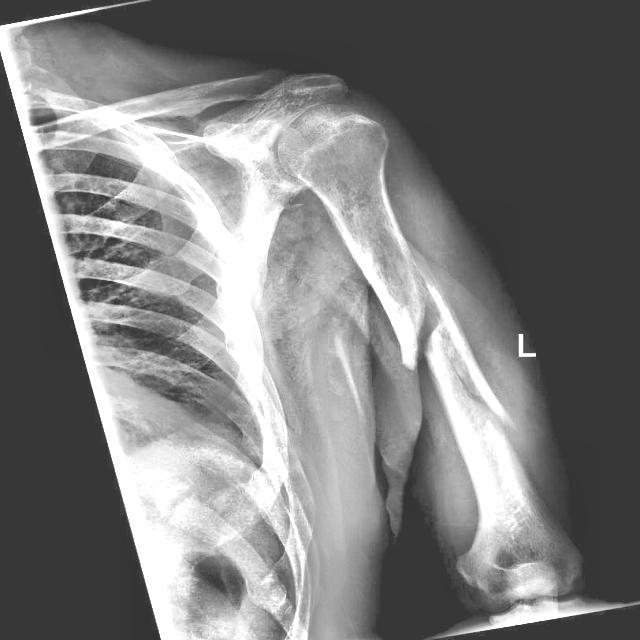fracture: (396, 284, 514, 434)
